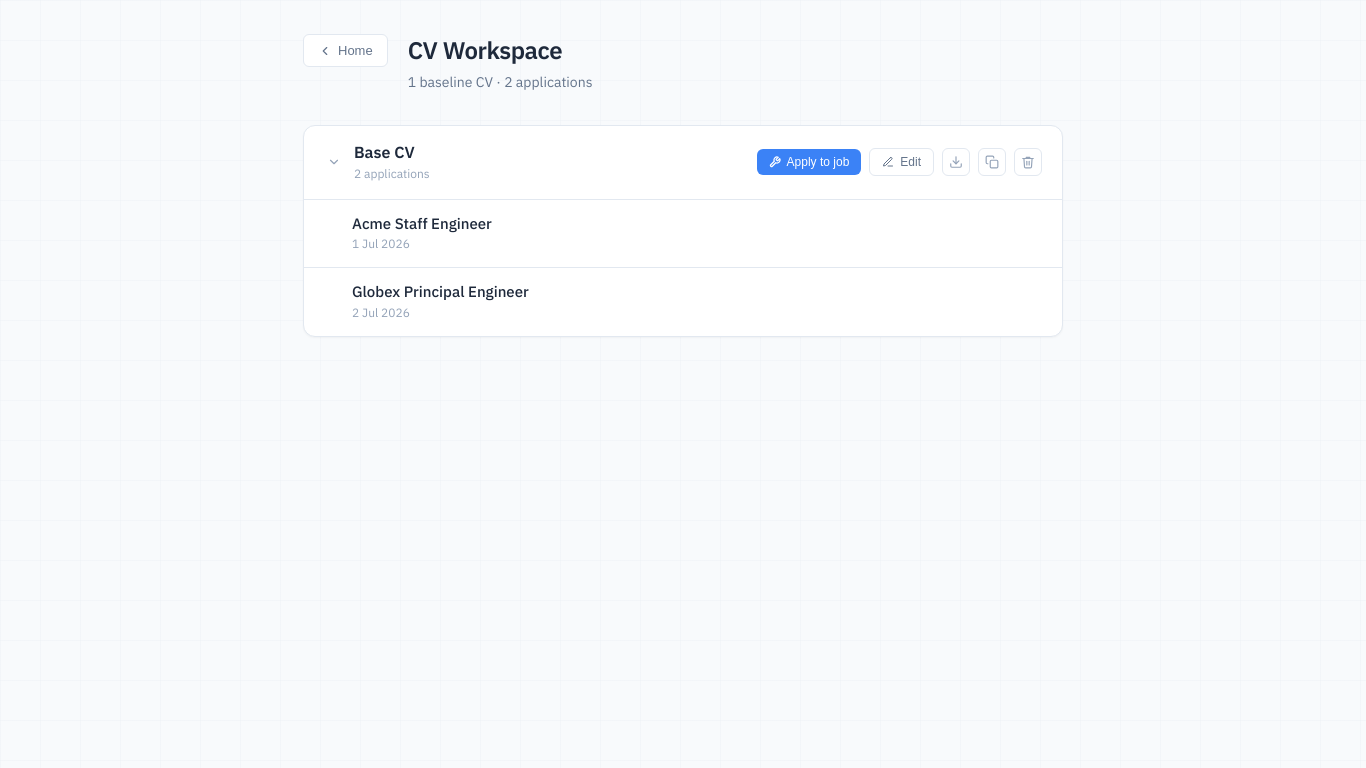
Scenario: Dashboard delete confirmation and load failure feedback › (a) click delete on base with 2 children shows dialog and does not remove immediately
Expected: the text "Base CV" is shown, [354,142,415,162]
Step 1. Click the button titled "Delete baseline CV" → x=1028, y=162, box [1014,148,1042,176]
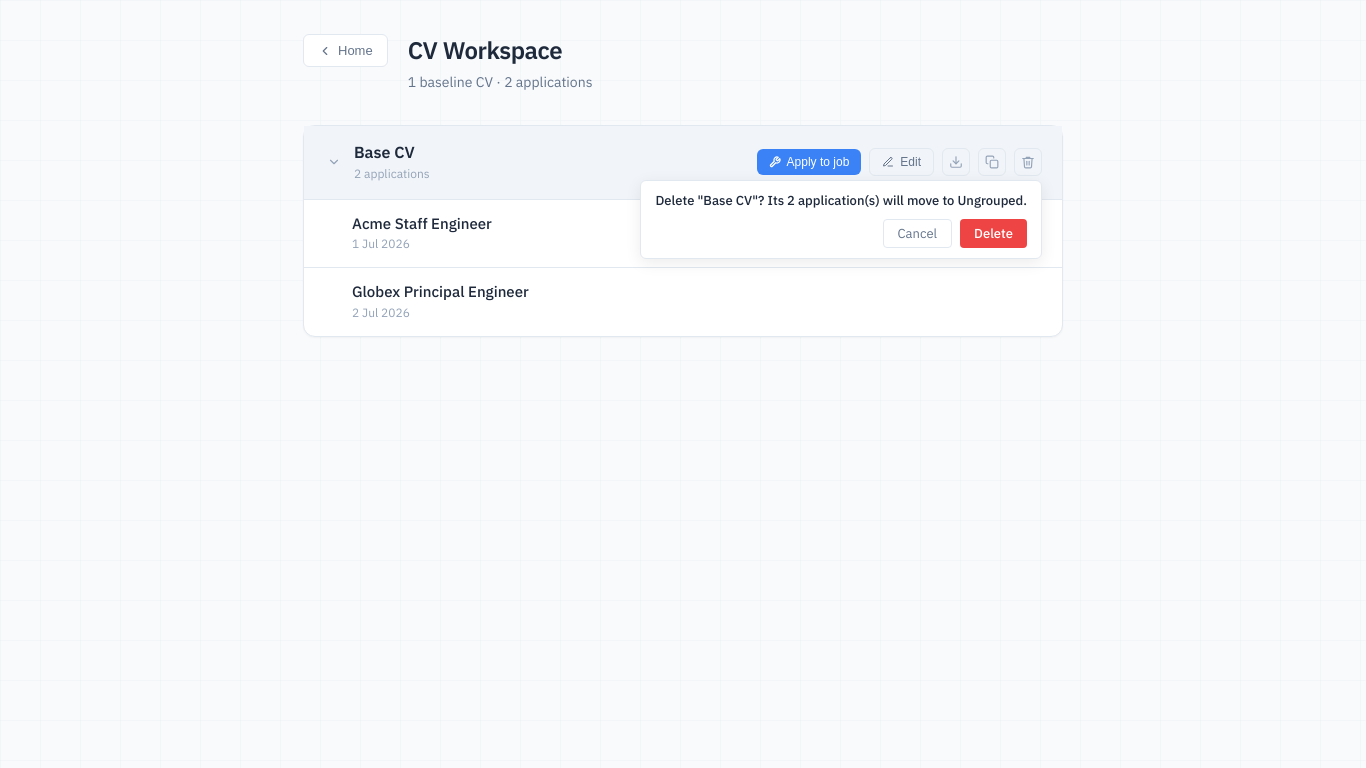
Result: the dialog shows "Delete \"Base CV\"? Its 2 application(s) will move to Ungrouped." at [656,192,1027,209]
